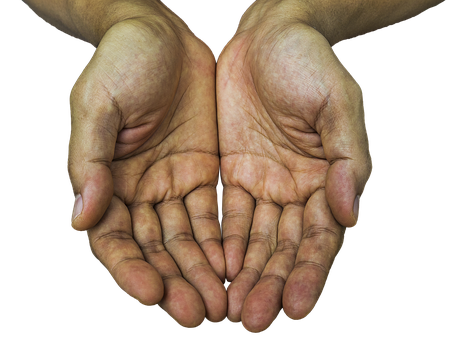palm: (226, 50, 342, 205), (100, 38, 217, 191)
